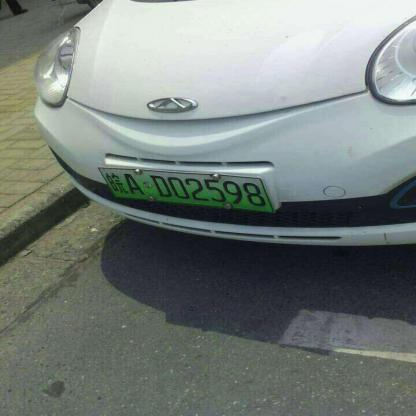lp: (99, 168, 270, 212)
